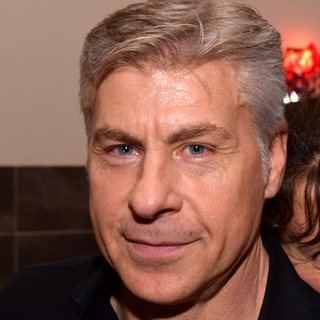eye: (165, 138, 222, 164), (96, 139, 146, 165)
